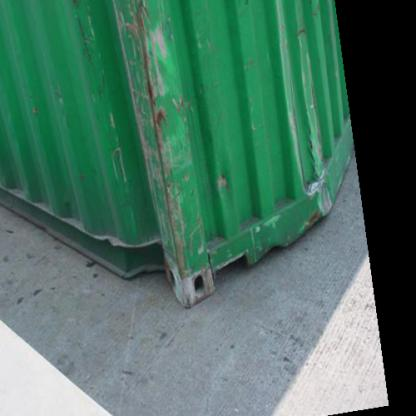Damage: (134, 11, 210, 284), (282, 60, 338, 214)
